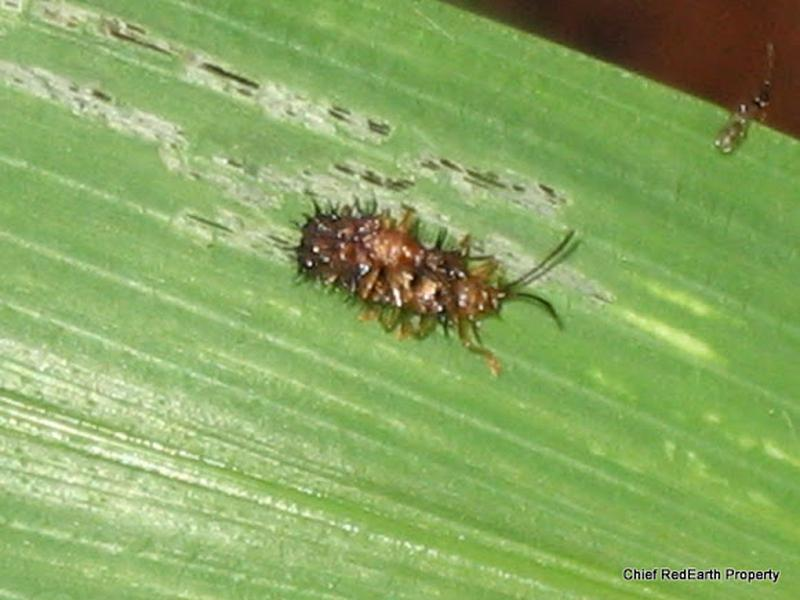Spiny_beetle: (292, 196, 533, 364)
